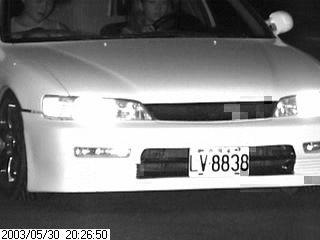plate: (189, 144, 251, 175)
